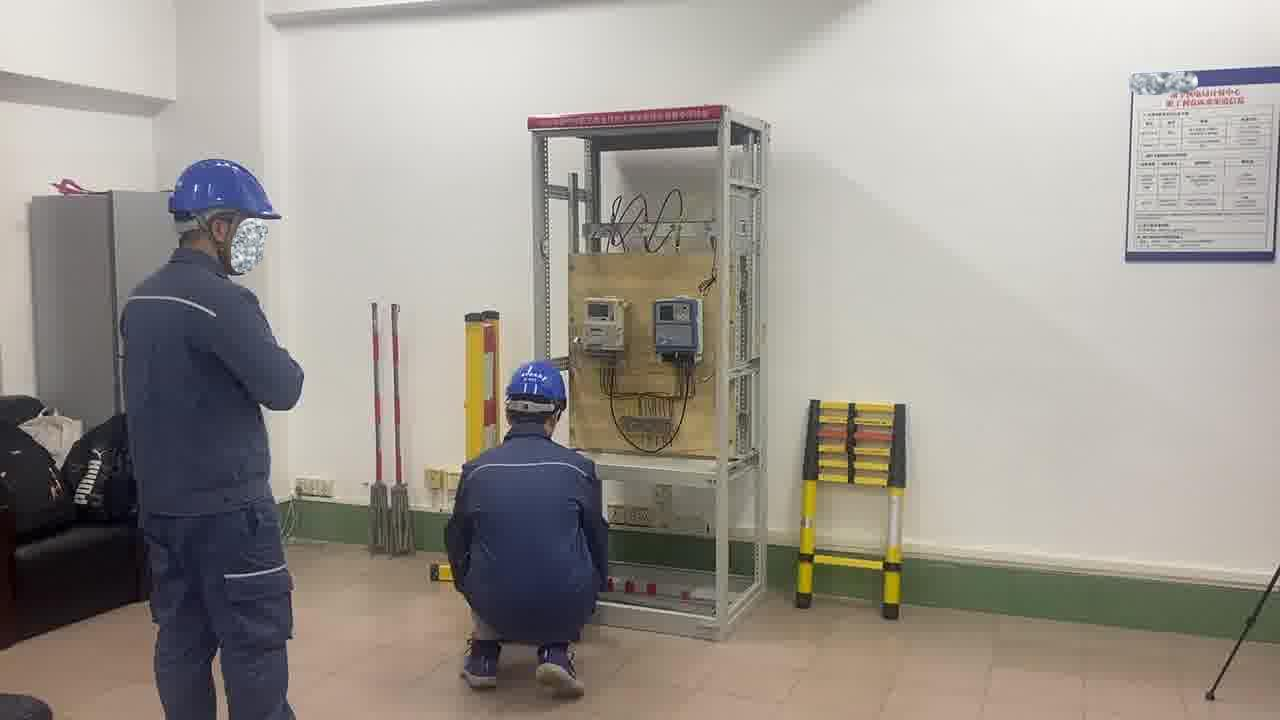halt: (169, 161, 283, 276), (506, 361, 573, 433)
inear: (200, 211, 246, 259)
